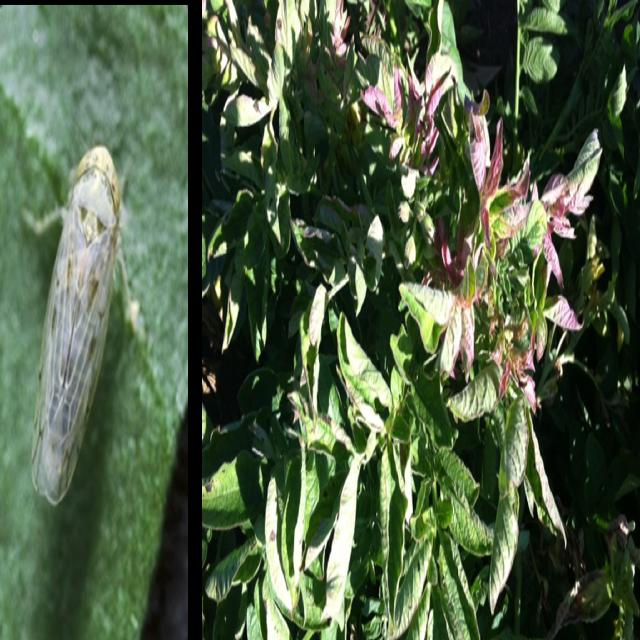Yechan: (20, 127, 133, 510)
